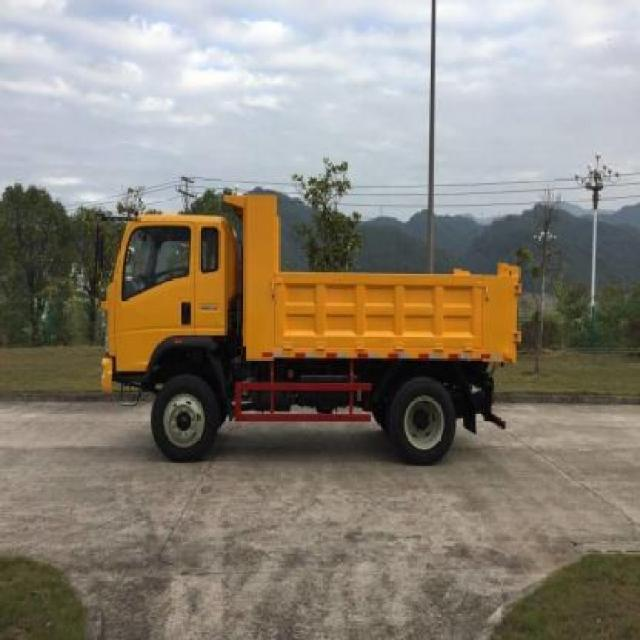truck: (97, 195, 528, 456)
